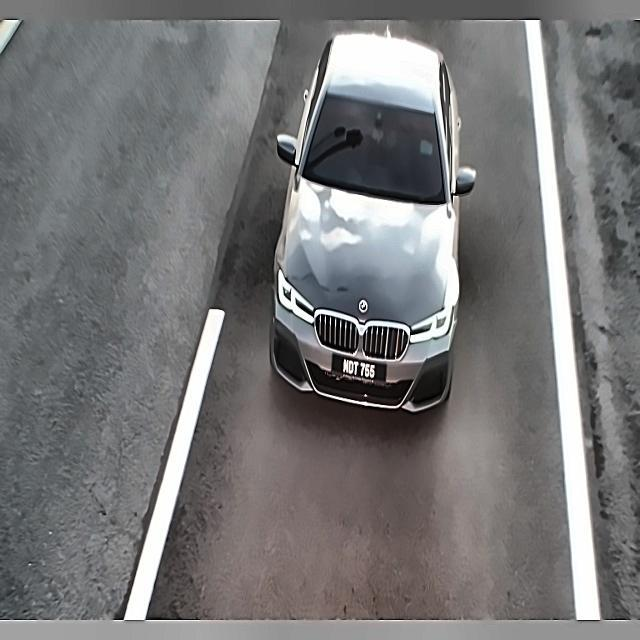car: (327, 345, 391, 388)
